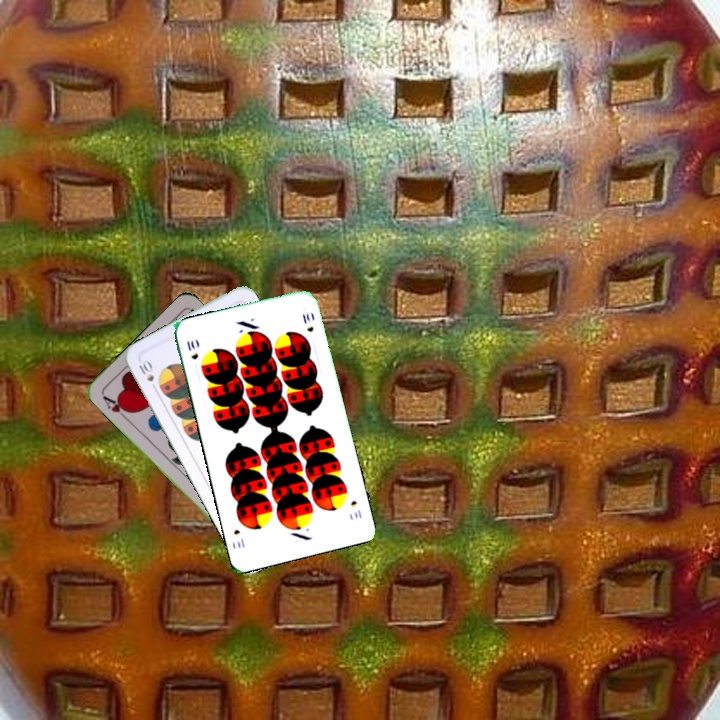HA: (98, 392, 134, 423)
S10: (135, 356, 160, 394), (183, 336, 201, 362), (347, 497, 364, 521)
